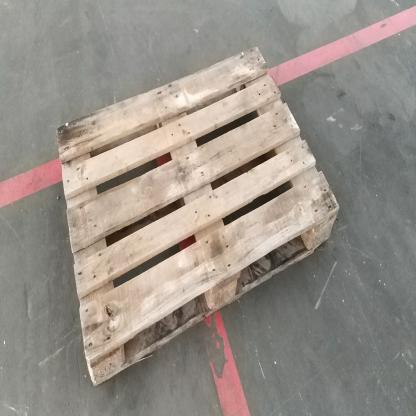BoxFace: (53, 39, 343, 392)
